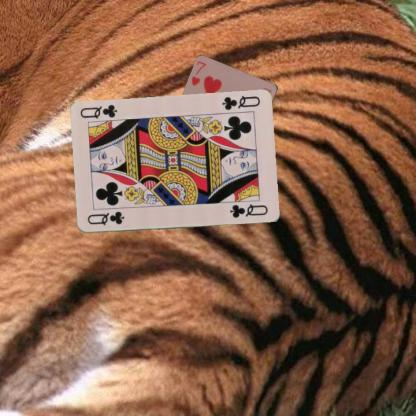7h: (189, 58, 207, 87)
Qc: (219, 93, 261, 112), (84, 208, 126, 226)
